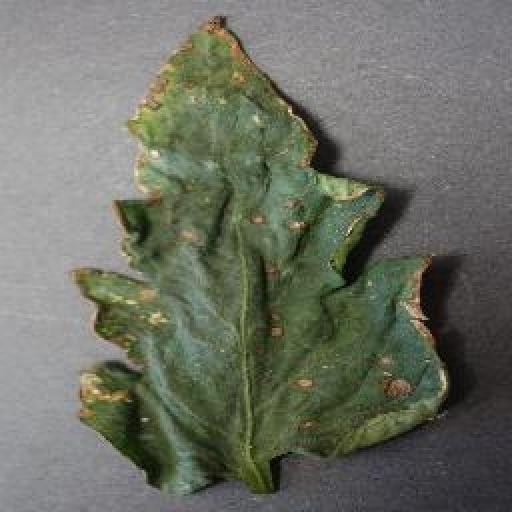Bacterial Spot: (62, 9, 462, 500)
